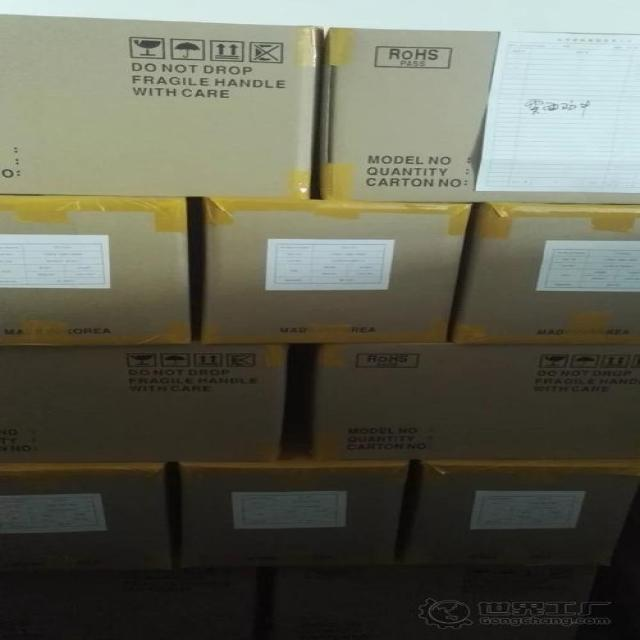box: (0, 12, 325, 199), (317, 28, 640, 206), (198, 197, 472, 344), (312, 342, 640, 460), (0, 343, 291, 464), (0, 194, 193, 345), (449, 201, 640, 345), (179, 450, 411, 568), (403, 459, 640, 566), (269, 564, 599, 640), (0, 567, 262, 640), (0, 461, 173, 571)
